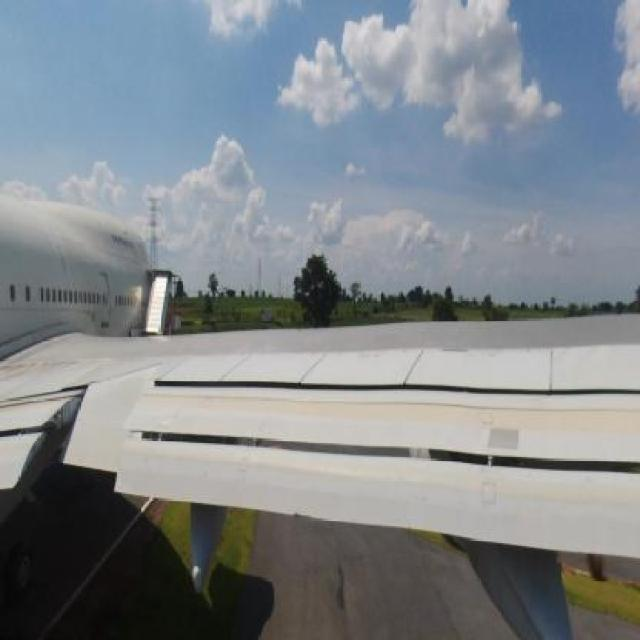Scartch: (4, 353, 96, 384)
